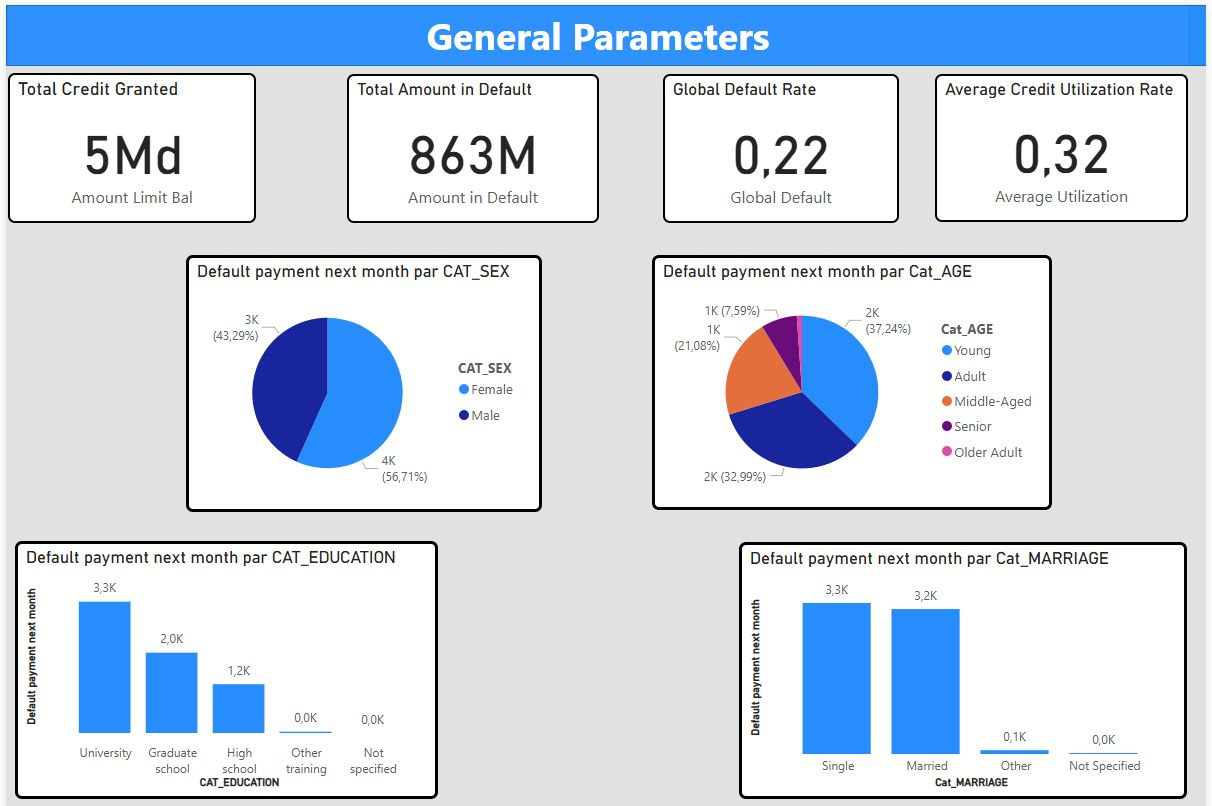

The dashboard page shown, as its layout file describes it:
{"tool":"powerbi","page":{"name":"Sociodémo_Defaut_paiement","canvas":[1200,1200],"ordinal":0},"visuals":[{"type":"card","title":"Total Credit Granted","fields":{"Values":["Sum(Credit_card.LIMIT_BAL)"]},"box":[2.1,68.4,248.2,149.4],"z":0},{"type":"pieChart","fields":{"Category":["Credit_card.CAT_SEX"],"Y":["Sum(Credit_card.default payment next month)"]},"box":[179.6,250.4,356.9,256.2],"z":1000},{"type":"shape","box":[0,0,1267.2,60.7],"z":2000},{"type":"textbox","box":[2.3,0,1179.4,60.6],"z":3000},{"type":"card","title":"Total Amount in Default","fields":{"Values":["Credit_card.Montant_En_Defaut"]},"box":[340.9,68.6,251.7,149.9],"z":4000},{"type":"card","title":"Global Default Rate","fields":{"Values":["Credit_card.Taux_Defaut_Global"]},"box":[656.6,68.6,236.8,149.9],"z":5000},{"type":"card","title":"Average Credit Utilization Rate","fields":{"Values":["Credit_card.Taux_Utilisation_Moyen"]},"box":[928.9,68.6,252.8,148.7],"z":6000},{"type":"pieChart","fields":{"Y":["Sum(Credit_card.default payment next month)"],"Category":["Credit_card.Cat_AGE"]},"box":[646.3,250.4,399.2,255.1],"z":7000},{"type":"columnChart","fields":{"Category":["Credit_card.CAT_EDUCATION"],"Y":["Sum(Credit_card.default payment next month)"]},"box":[9,536.2,422.8,257.7],"z":8000},{"type":"columnChart","fields":{"Category":["Credit_card.Cat_MARRIAGE"],"Y":["Sum(Credit_card.default payment next month)"]},"box":[732.8,537.4,448.4,256.2],"z":9000}]}

Visuals, with their boxes on the page's 1200x1200 design canvas (x1, y1, x2, y2). These are canvas units, not pixel positions in the 1212x806 screenshot, which may show the page scaled, cropped or inside an application window:
"Total Credit Granted" card: (left=2, top=68, right=250, bottom=218)
pieChart - Credit_card.CAT_SEX x Sum(Credit_card.default payment next month): (left=180, top=250, right=536, bottom=507)
shape: (left=0, top=0, right=1267, bottom=61)
textbox: (left=2, top=0, right=1182, bottom=61)
"Total Amount in Default" card: (left=341, top=69, right=593, bottom=218)
"Global Default Rate" card: (left=657, top=69, right=893, bottom=218)
"Average Credit Utilization Rate" card: (left=929, top=69, right=1182, bottom=217)
pieChart - Sum(Credit_card.default payment next month) x Credit_card.Cat_AGE: (left=646, top=250, right=1046, bottom=506)
columnChart - Credit_card.CAT_EDUCATION x Sum(Credit_card.default payment next month): (left=9, top=536, right=432, bottom=794)
columnChart - Credit_card.Cat_MARRIAGE x Sum(Credit_card.default payment next month): (left=733, top=537, right=1181, bottom=794)
